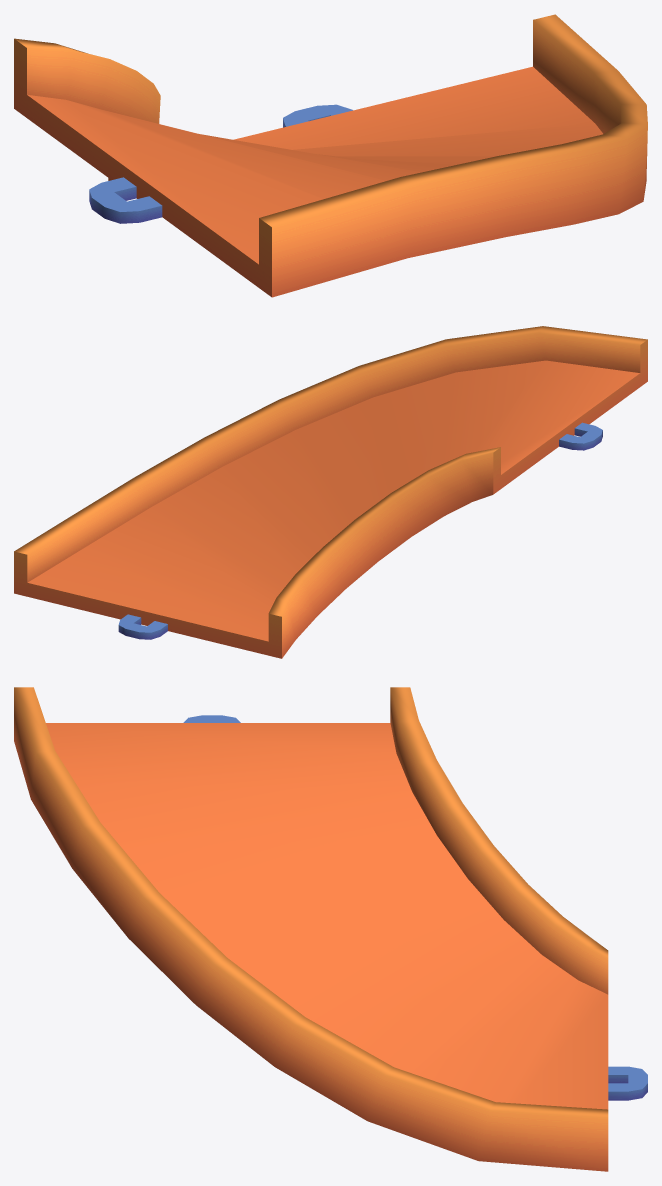
Rendered from track-wide-corner-small-ramp.glb.
The picture shows the model from 3 angles, top to bottom: view 1: azimuth 30°, elevation 25°; view 2: azimuth 150°, elevation 25°; view 3: azimuth 270°, elevation 25°; orthographic projection. The views are drawn at different scales.
Visible parts, largest first — view 1: track-wide-corner-small-ramp; view 2: track-wide-corner-small-ramp; view 3: track-wide-corner-small-ramp.
Boxes of the visible parts, x1,y1,x2,y2 form: track-wide-corner-small-ramp: [14, 14, 647, 297]; track-wide-corner-small-ramp: [14, 326, 647, 658]; track-wide-corner-small-ramp: [14, 687, 647, 1171].
Size of the model in its own units: 3.2 by 1.3 by 3.2.
1 material, 1 textured.
